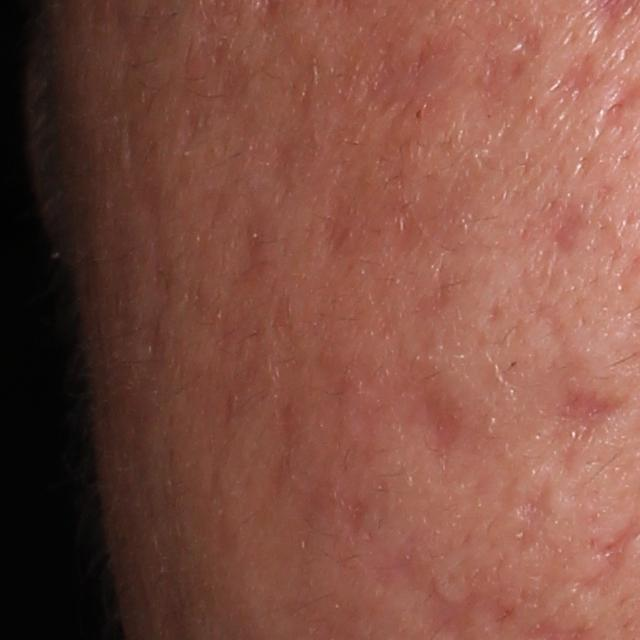atrophic_scar: (234, 371, 371, 528), (310, 161, 458, 263), (334, 20, 461, 122), (395, 366, 463, 475), (220, 196, 289, 294), (474, 20, 538, 103), (267, 120, 325, 189), (541, 184, 592, 254), (547, 390, 613, 440), (542, 46, 602, 92), (514, 479, 546, 543)
